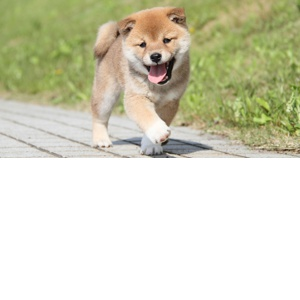dog: (70, 2, 223, 147)
